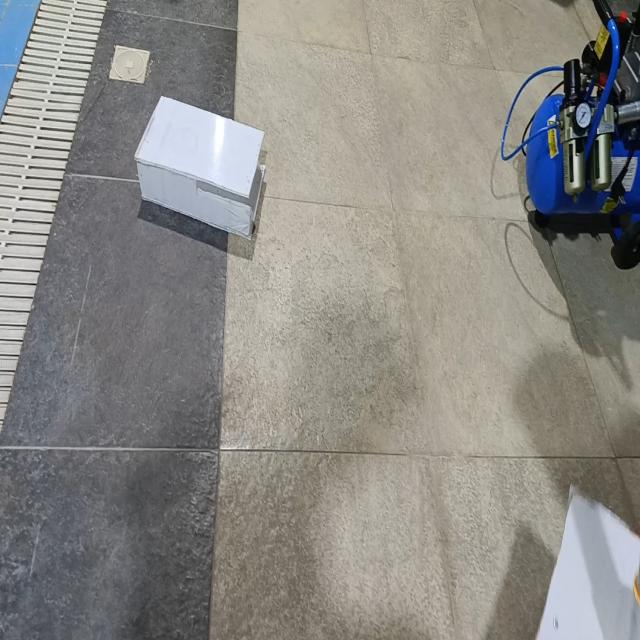Cuboid: (133, 93, 266, 239)
